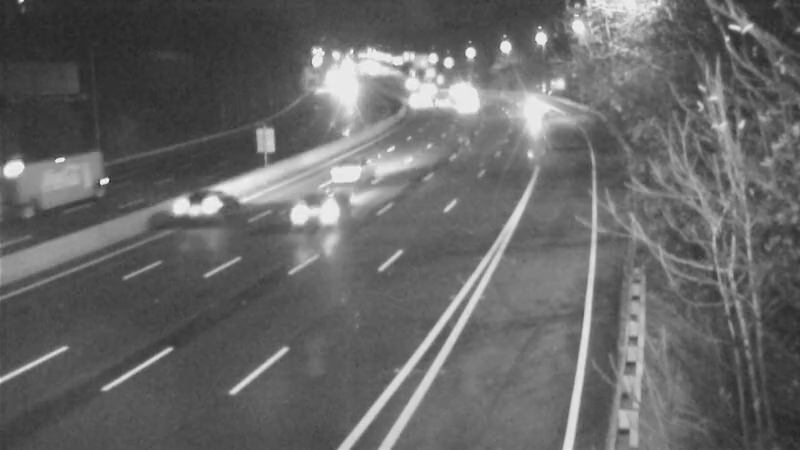vehicle: (310, 136, 390, 216), (280, 169, 360, 249), (155, 164, 235, 244), (1, 152, 74, 232), (432, 62, 482, 112), (445, 73, 495, 123), (395, 78, 445, 128), (415, 78, 465, 128), (446, 87, 496, 137), (520, 85, 570, 135)
